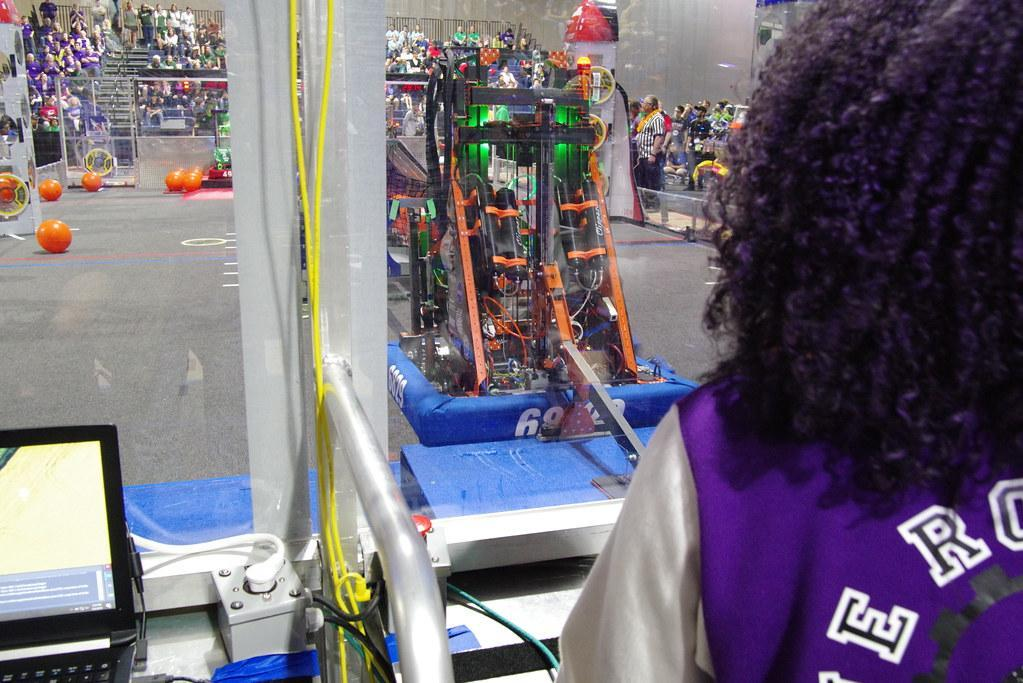robot: (367, 49, 712, 450)
